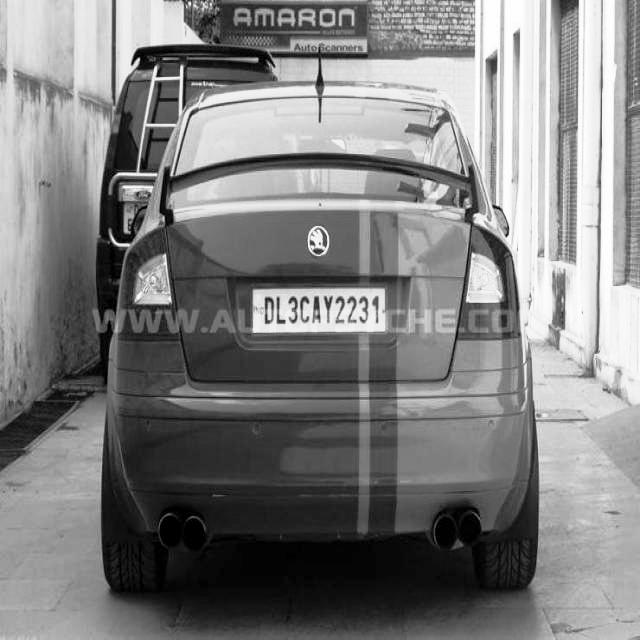Car: (111, 89, 553, 594)
